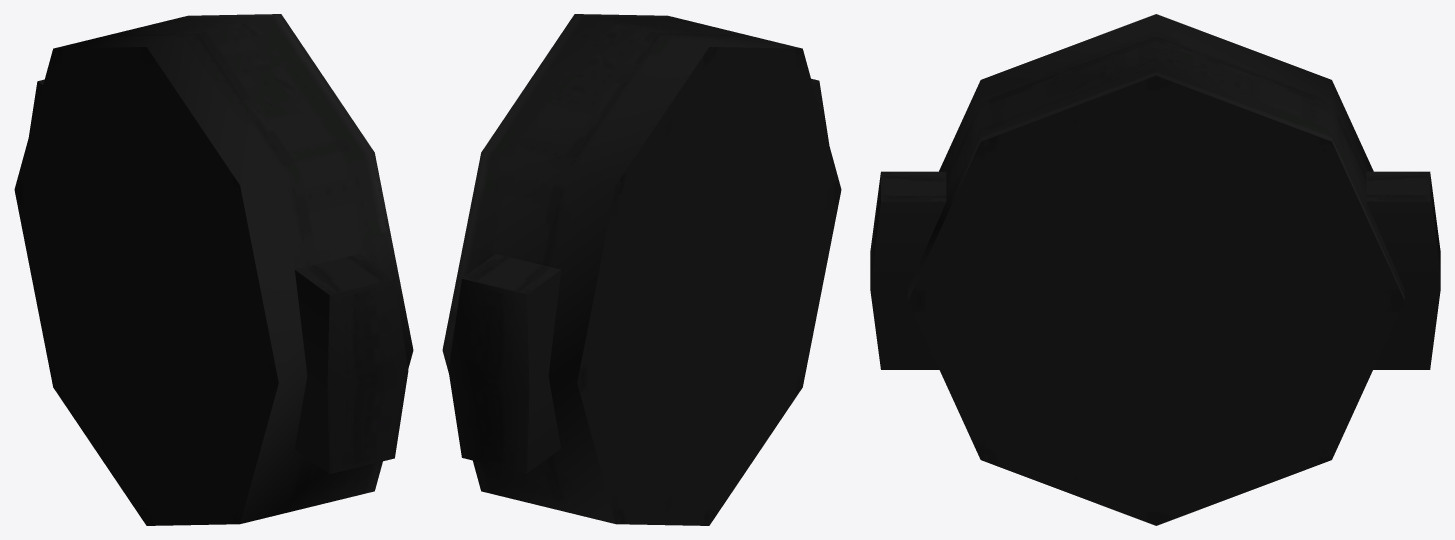
Rendered from com_pipe_4_coupling_metal_clean_lod1.glb.
3 renders of one model, left to right at view 1: azimuth 30°, elevation 25°; view 2: azimuth 150°, elevation 25°; view 3: azimuth 270°, elevation 25°, orthographic. The views are drawn at different scales.
Parts seen in each view (by area): view 1: surf0; view 2: surf0; view 3: surf0.
Part boxes in pixels (<box>): surf0: <box>14,14,413,525</box>; surf0: <box>442,14,841,525</box>; surf0: <box>870,14,1440,525</box>.
Bounding box in the file's own units: 2.57 × 8.72 × 10.02.
